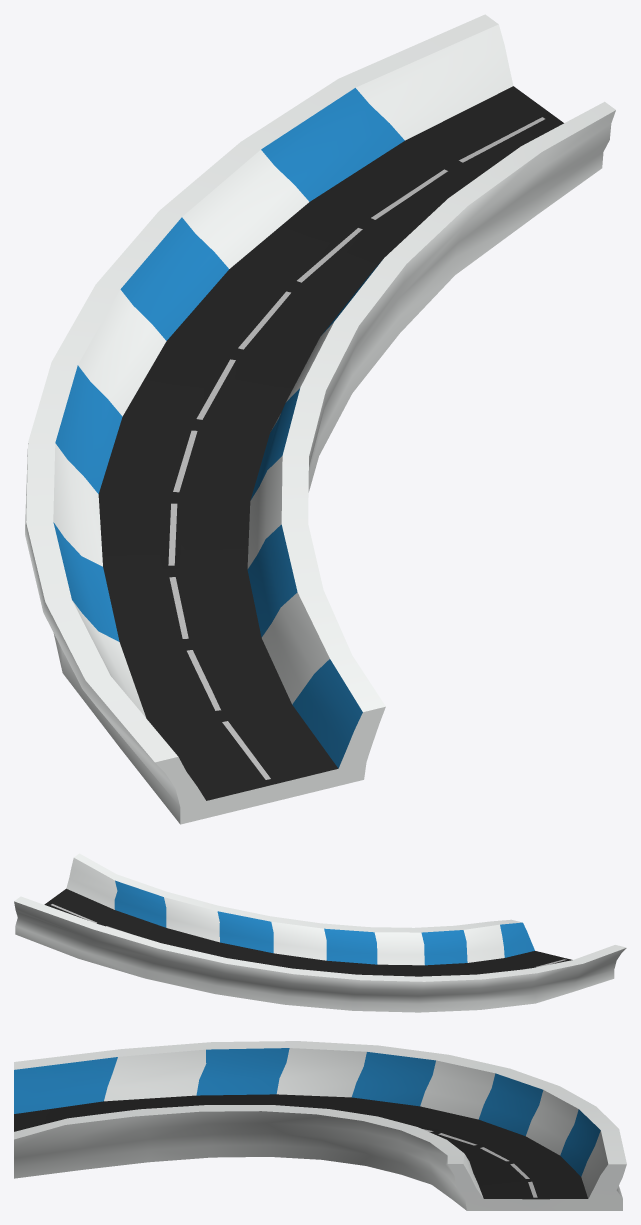
Rendered from duogn len doc dai blue.fbx.
The picture shows the model from 3 angles, top to bottom: view 1: azimuth 30°, elevation 25°; view 2: azimuth 150°, elevation 25°; view 3: azimuth 270°, elevation 25°; orthographic projection. The views are drawn at different scales.
Parts seen in each view (by area): view 1: duong_len_doc_dai; view 2: duong_len_doc_dai; view 3: duong_len_doc_dai.
Part boxes in pixels (x1,y1,x2,y2): duong_len_doc_dai: (25,14,615,824); duong_len_doc_dai: (14,853,626,1012); duong_len_doc_dai: (14,1041,626,1210).
Size of the model in its own units: 70.68 by 25.94 by 70.45.
1 material, 1 textured.
